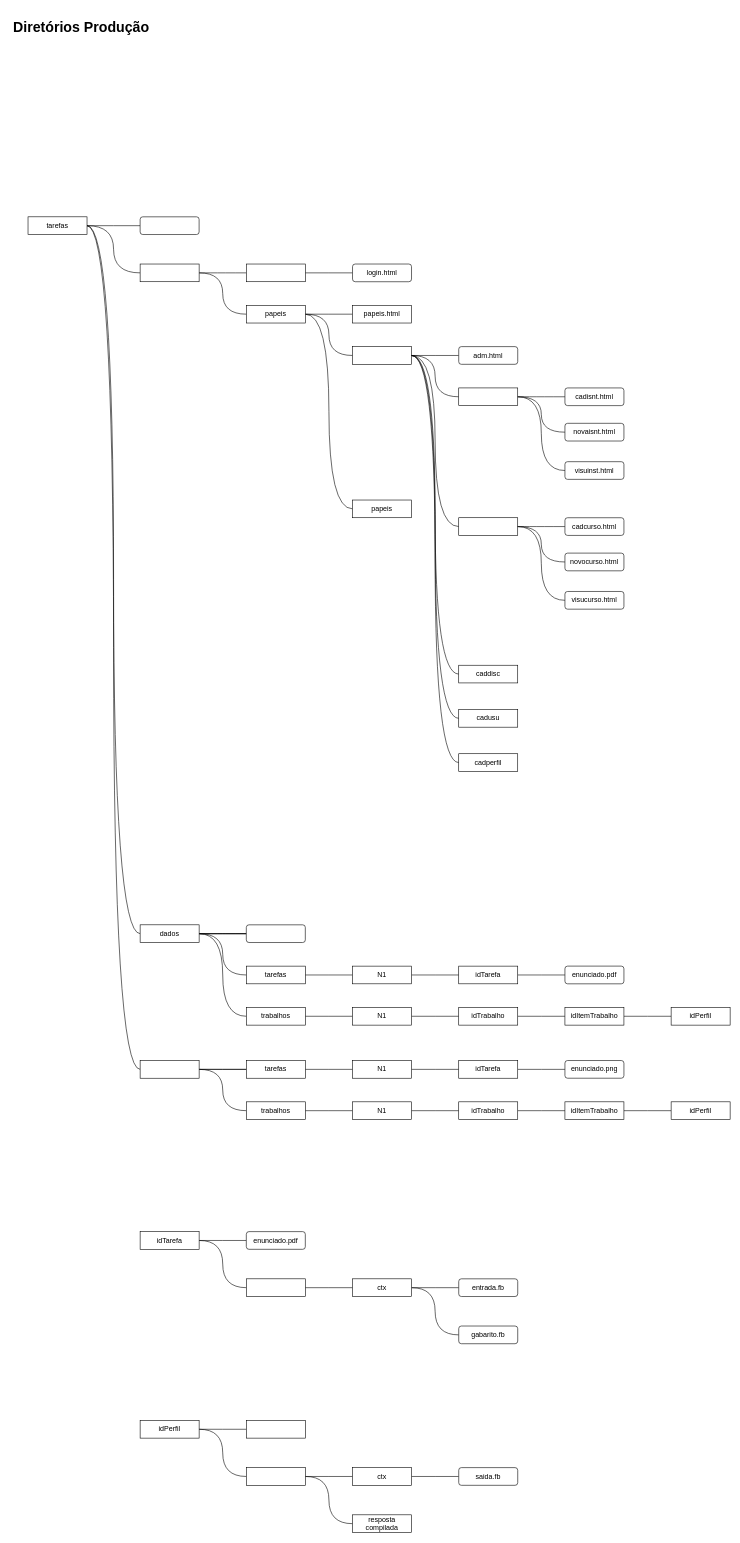
This 740x1543 diagram has some shape labels left out. Here are the shapes that lost their labels. From the top down, the box of each, then its label:
(140, 216, 199, 235): tarefas.cgi
(140, 263, 199, 282): html
(246, 263, 305, 282): login
(352, 346, 412, 364): adm
(458, 387, 518, 406): cadisnt
(458, 517, 518, 535): cadcurso
(246, 924, 305, 943): tarefas.bd
(140, 1060, 199, 1078): downloads
(246, 1278, 305, 1297): avaliacao
(246, 1420, 305, 1438): resposta.xxx
(246, 1467, 305, 1485): areadetestes
